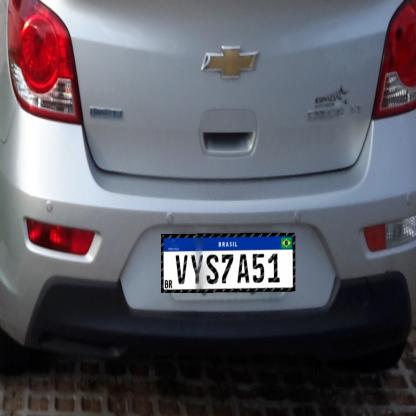PlacaM: (161, 233, 295, 293)
